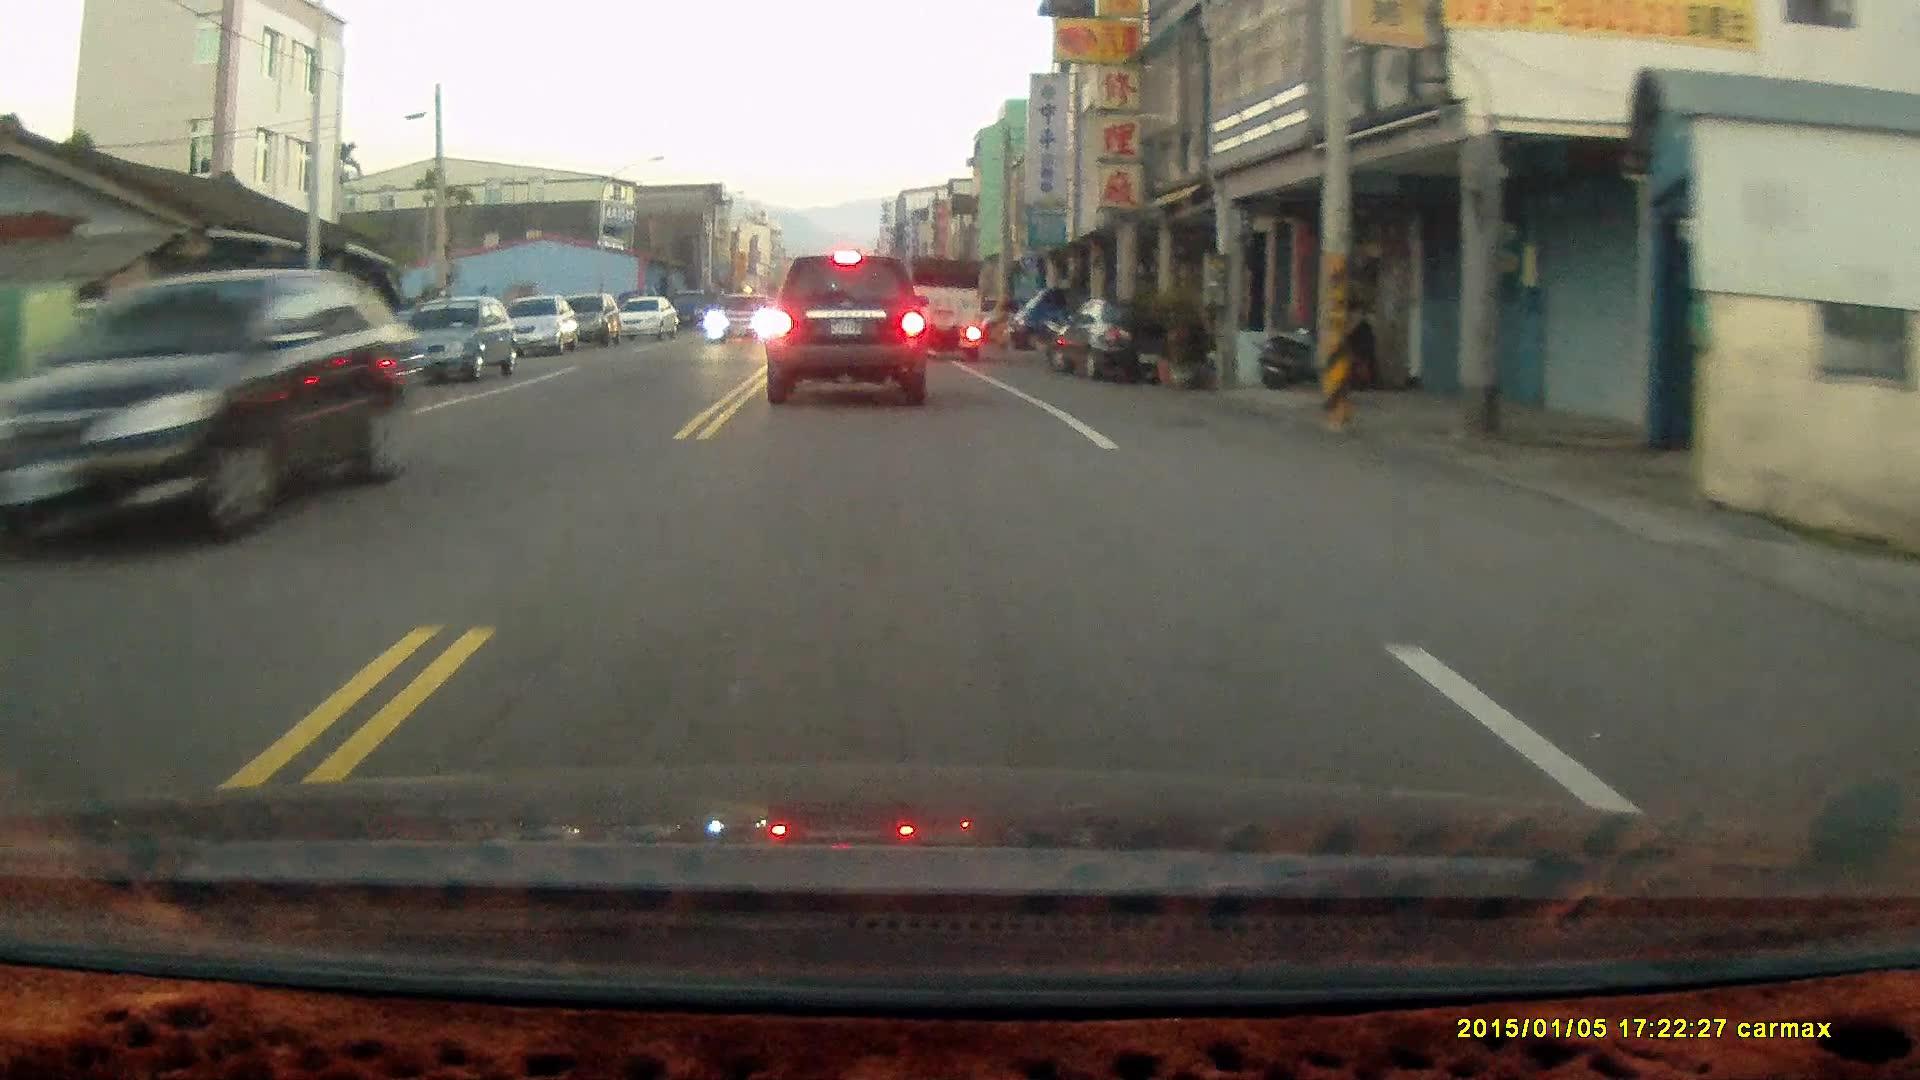vehicle: (1, 265, 415, 568), (765, 251, 928, 406), (1054, 295, 1195, 380), (390, 294, 518, 384), (899, 256, 989, 367), (1011, 280, 1122, 352), (502, 294, 578, 355), (551, 291, 622, 345), (705, 291, 778, 344), (615, 295, 682, 340)
